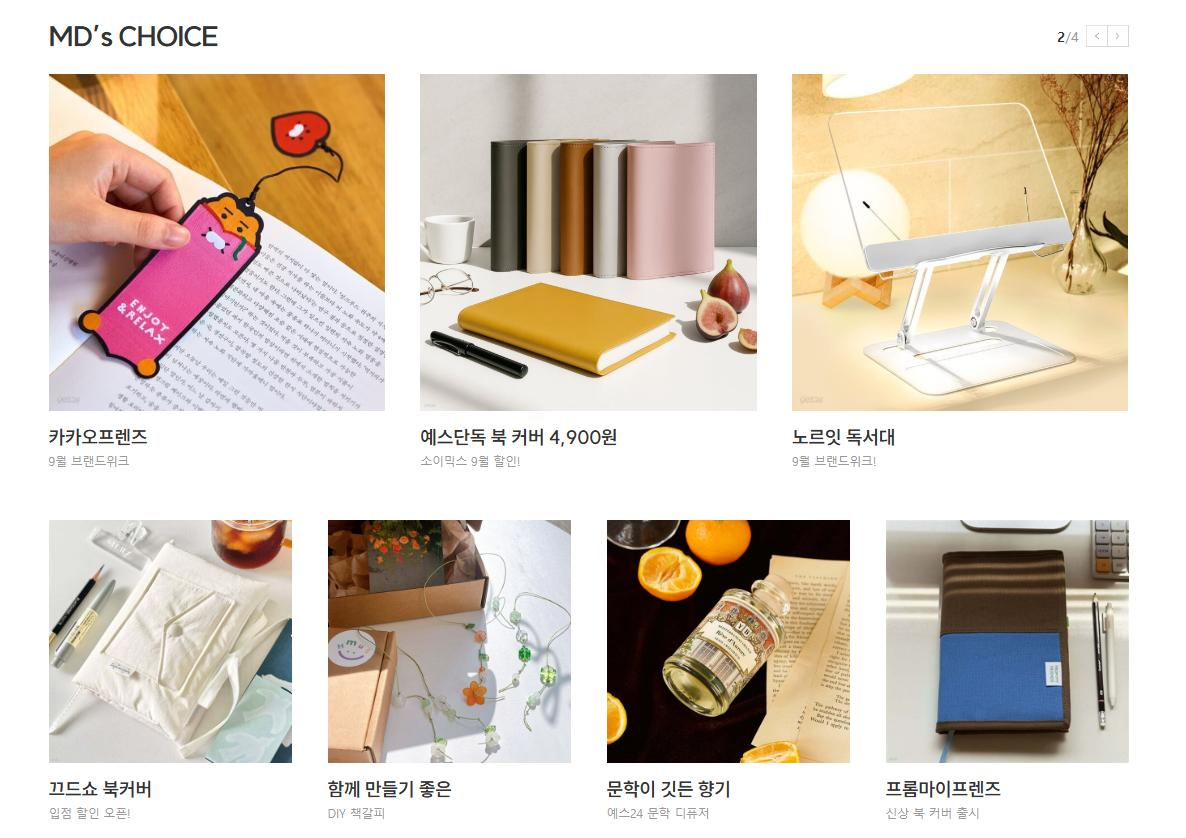button: (1111, 30, 1129, 49), (1093, 32, 1109, 45)
